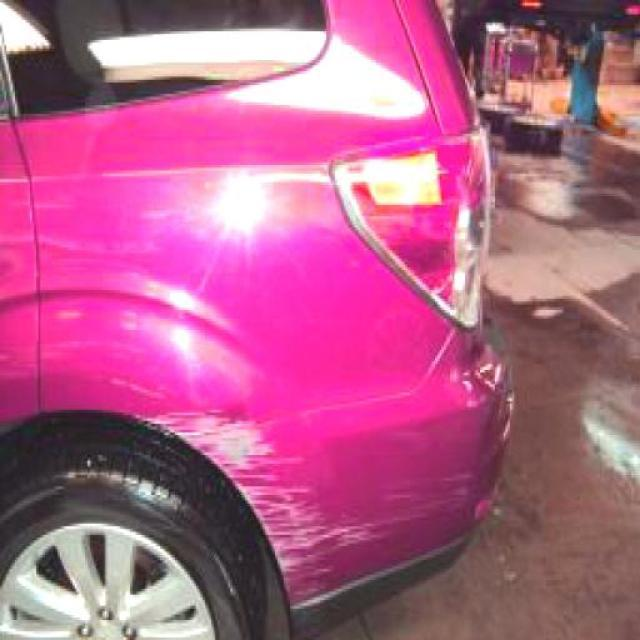car damage: (149, 410, 471, 606)
